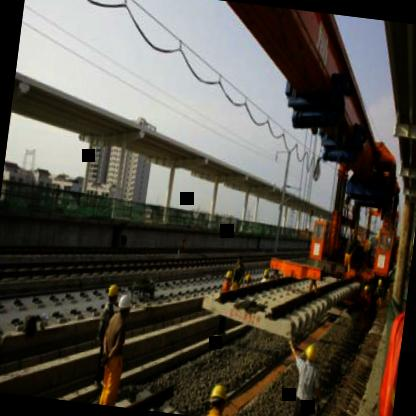helmet: (204, 380, 229, 414), (116, 290, 132, 320), (302, 342, 318, 368), (104, 282, 120, 307), (222, 267, 235, 283)
